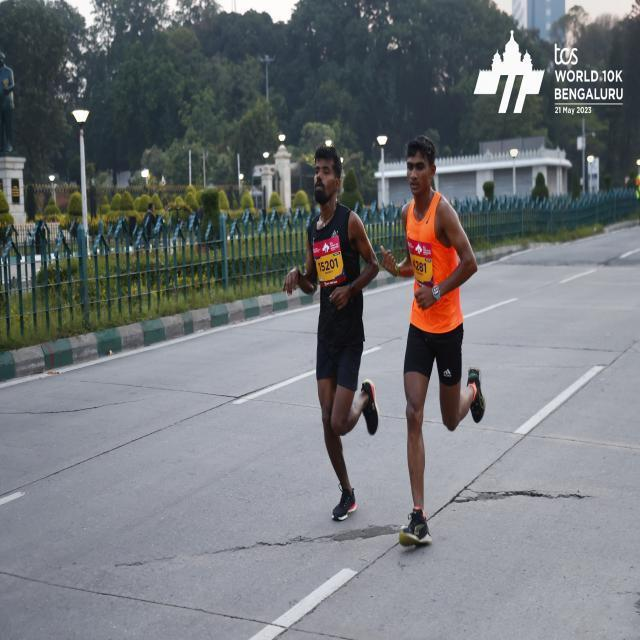dorsal: (311, 238, 343, 285), (410, 239, 432, 289)
